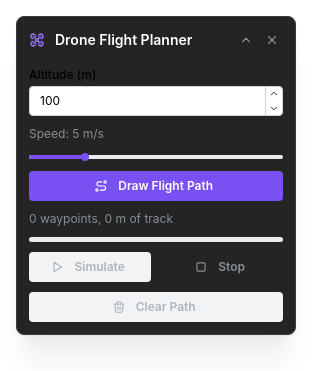
DronePanel › clears the track and its entities
Click the button "Draw Flight Path": (156, 186) [29,171,283,201]
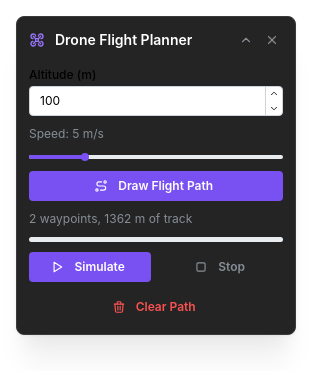
Click the button "Clear Path": (156, 307) [29,292,283,322]
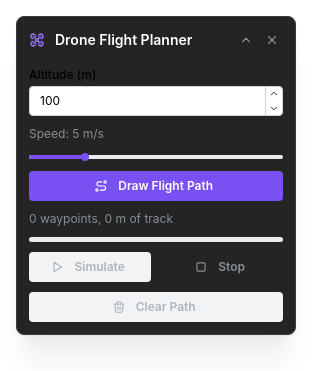
Now the text with test id "drone-hint" reads "0 waypoints, 0 m of track", box [29,211,173,226]
Now the button "Simulate" is disabled, box [29,252,151,282]
